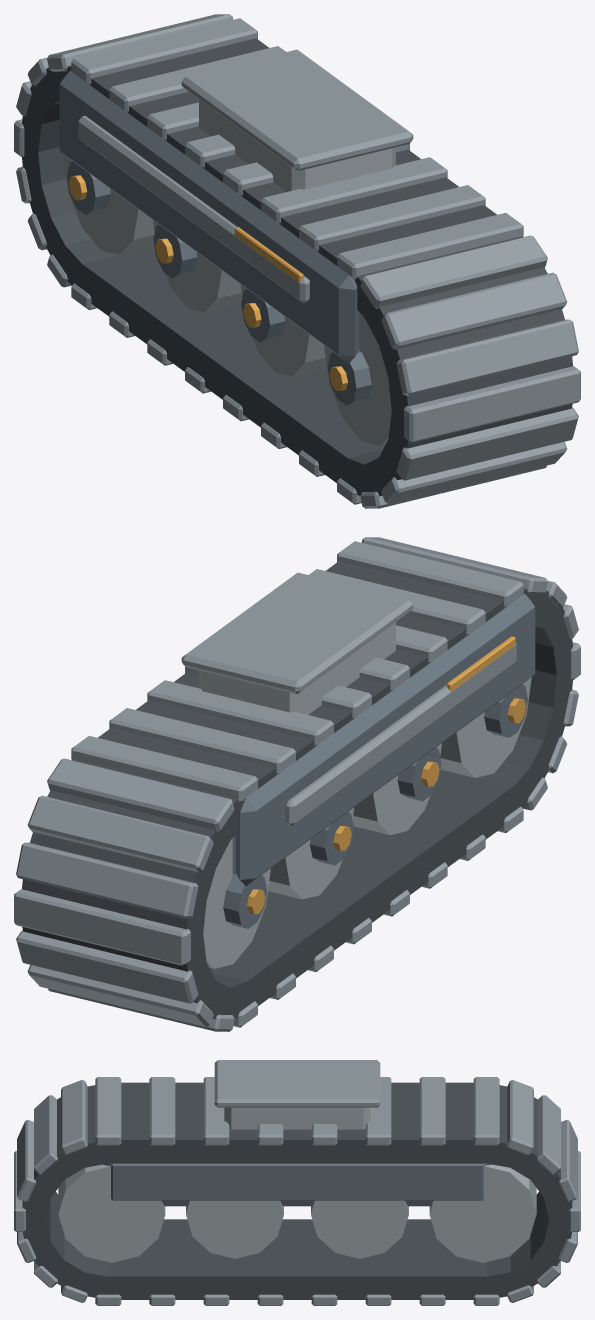
Rendered from CGS_Track_L.fbx.
The picture shows the model from 3 angles, top to bottom: view 1: azimuth 30°, elevation 25°; view 2: azimuth 150°, elevation 25°; view 3: azimuth 270°, elevation 25°; orthographic projection. The views are drawn at different scales.
Visible parts, largest first — view 1: CGS_Track_L; view 2: CGS_Track_L; view 3: CGS_Track_L.
Boxes of the visible parts, <box> form: CGS_Track_L: <box>14,14,580,508</box>; CGS_Track_L: <box>14,537,580,1031</box>; CGS_Track_L: <box>14,1060,580,1305</box>.
Bounding box in the file's own units: 89.5 × 122 × 318.
